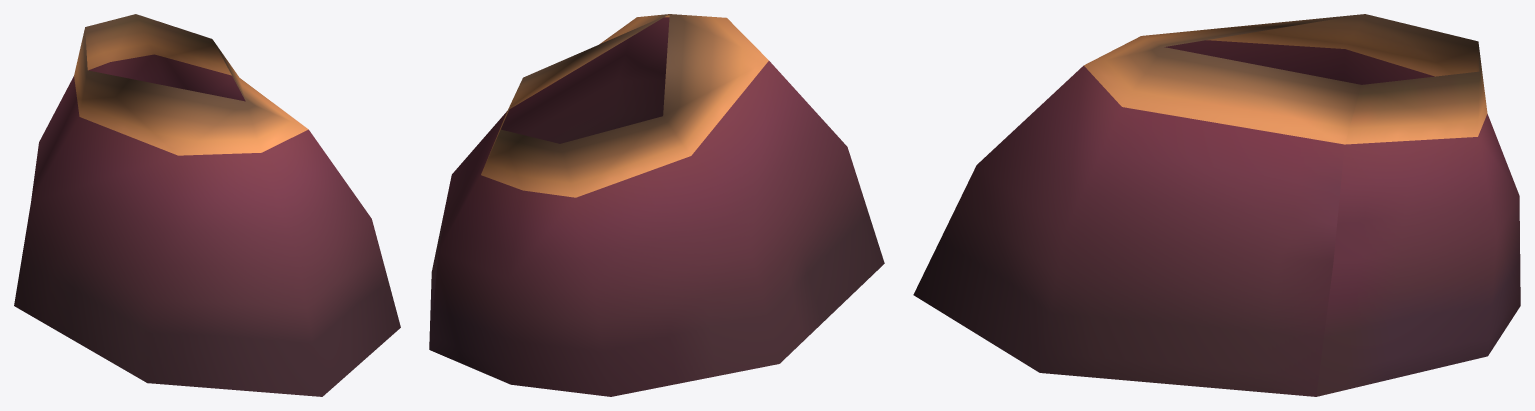
The model's file is pataDel1_planta_caballoTS.obj.
3 views of the same model, side by side, from view 1: azimuth 30°, elevation 25°; view 2: azimuth 150°, elevation 25°; view 3: azimuth 270°, elevation 25° (orthographic). The views are drawn at different scales.
Visible parts, largest first — view 1: patadel1_planta; view 2: patadel1_planta; view 3: patadel1_planta.
Boxes of the visible parts, x1,y1,x2,y2 form: patadel1_planta: (14,14,400,396); patadel1_planta: (429,14,884,396); patadel1_planta: (913,14,1520,396).
Bounding box in the file's own units: 2 × 1.33 × 2.78.
Materials: 1 (1 with a texture image).
